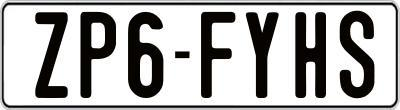6: (126, 9, 166, 95)
F: (198, 11, 232, 100)
H: (292, 9, 329, 95)
P: (77, 10, 118, 99)
S: (337, 11, 374, 99)
Y: (245, 12, 283, 98)
Z: (32, 10, 69, 99)
